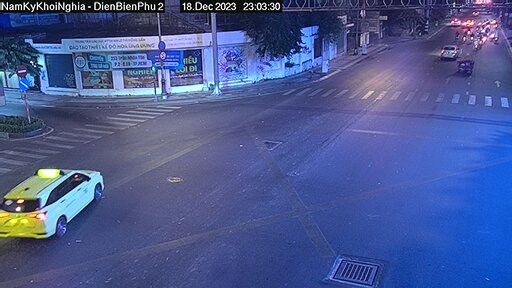car: (4, 165, 105, 244), (457, 56, 479, 79), (437, 42, 463, 57)
